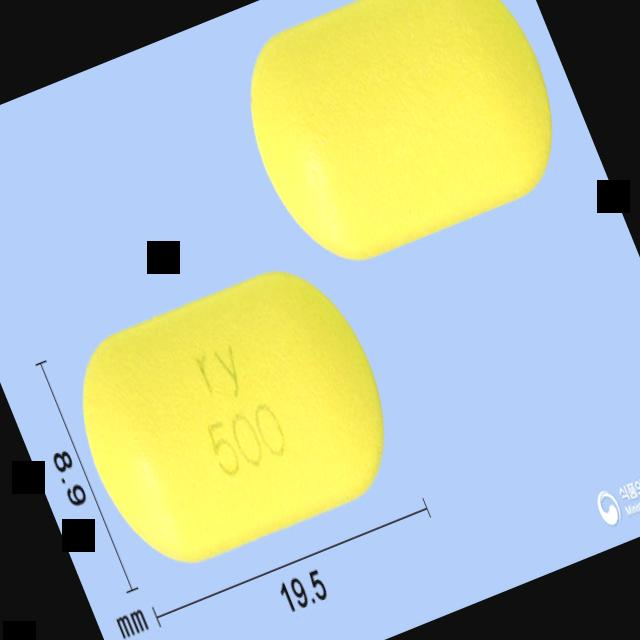Reyon Clarithromycin Tab: (50, 246, 416, 587)
